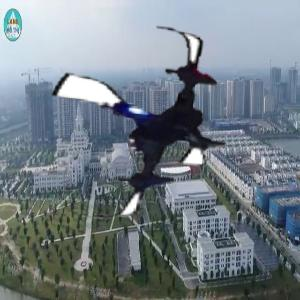drone: (32, 18, 243, 229)
